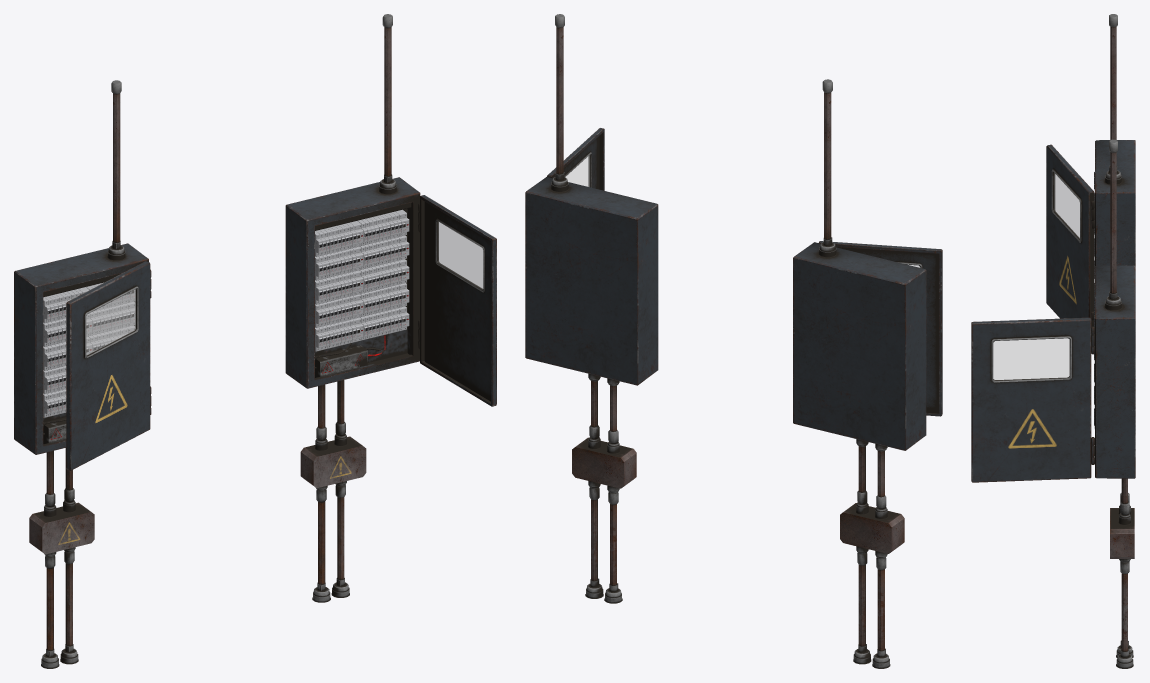
File: electrical_panel_-_14mb.glb
The picture shows the model from 3 angles, left to right: view 1: azimuth 30°, elevation 25°; view 2: azimuth 150°, elevation 25°; view 3: azimuth 270°, elevation 25°; orthographic projection. The views are drawn at different scales.
Parts seen in each view (by area): view 1: base_2, base, door, door_2, Null_1, Null, glass, glass_2; view 2: base, base_2, door, door_2; view 3: door_2, base_2, door, base, glass_2, glass.
Part boxes in pixels (x1,y1,x2,y2): base_2: (285,14,420,602); base: (14,80,148,668); door: (66,261,151,470); door_2: (418,195,496,406); Null_1: (315,209,409,351); Null: (43,282,135,417); glass: (86,289,135,355); glass_2: (438,221,482,289); base: (793,79,926,668); base_2: (525,14,658,603); door: (819,241,942,416); door_2: (547,128,604,190); door_2: (971,317,1094,482); base_2: (1095,139,1135,668); door: (1046,144,1094,326); base: (1095,14,1135,266); glass_2: (993,338,1069,380); glass: (1054,173,1079,238).
Bounding box in the file's own units: 149 × 206 × 56.49.
Materials: 3 (2 with a texture image).
